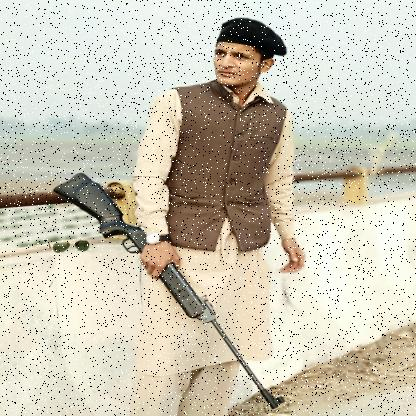rifle: (51, 172, 287, 412)
